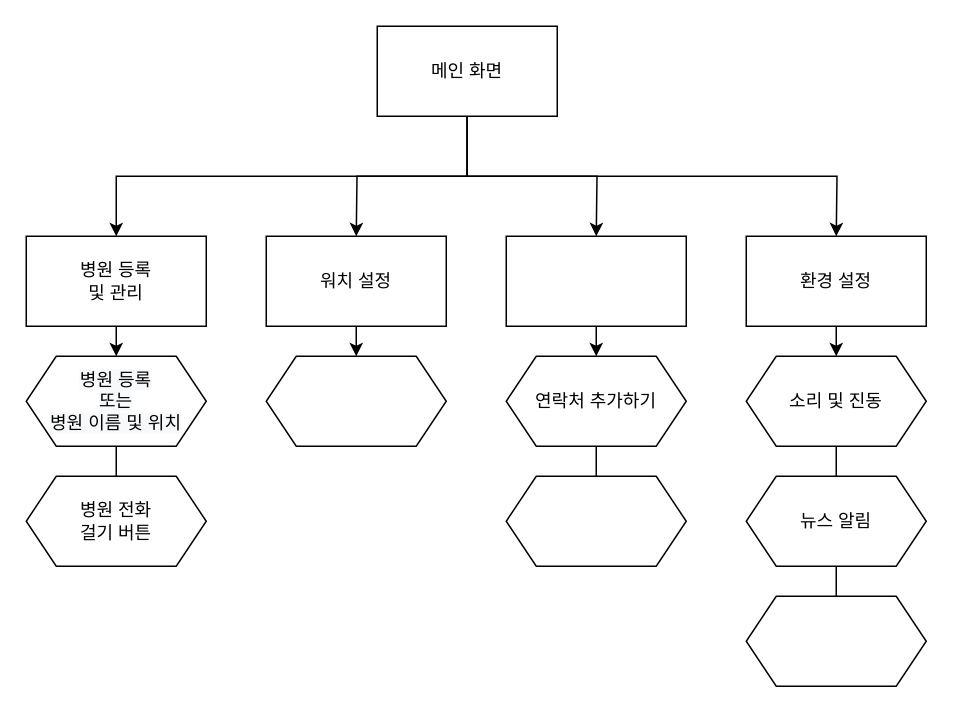
The diagram is 953 pixels wide and 713 high, and some of its shapes have lost their labels. The box of each missing label's shape, as (x1, y1, x2, y2) in pixels:
긴급 연락처 설정: (505, 235, 686, 326)
버튼 설정: (265, 355, 446, 446)
상단바 아이콘: (745, 595, 926, 686)
연락처: (505, 475, 686, 566)
